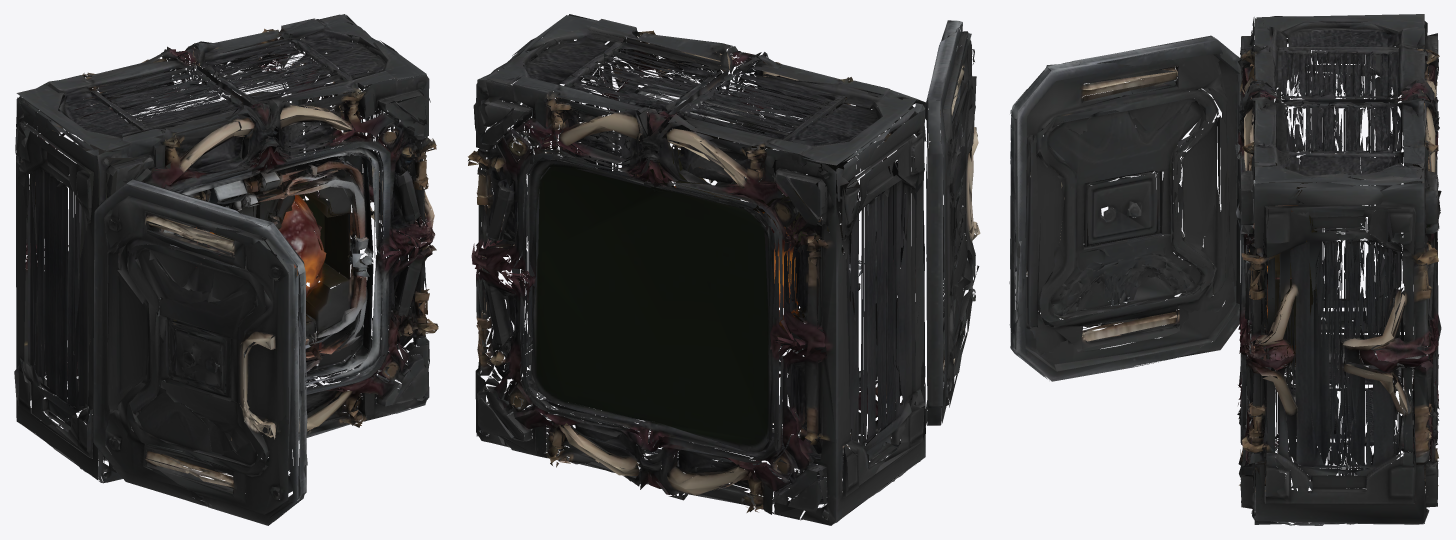
The model's file is evac_hidden_egg_coolant_rack.glb.
3 renders of one model, left to right at view 1: azimuth 30°, elevation 25°; view 2: azimuth 150°, elevation 25°; view 3: azimuth 270°, elevation 25°, orthographic. The views are drawn at different scales.
Parts seen in each view (by area): view 1: node_0; view 2: node_0; view 3: node_0.
Boxes of the visible parts, <box> form: node_0: <box>14,14,438,525</box>; node_0: <box>468,14,980,525</box>; node_0: <box>1009,14,1441,525</box>.
Size of the model in its own units: 0.7583 by 0.7177 by 0.7642.
Materials: 1 (1 with a texture image).
